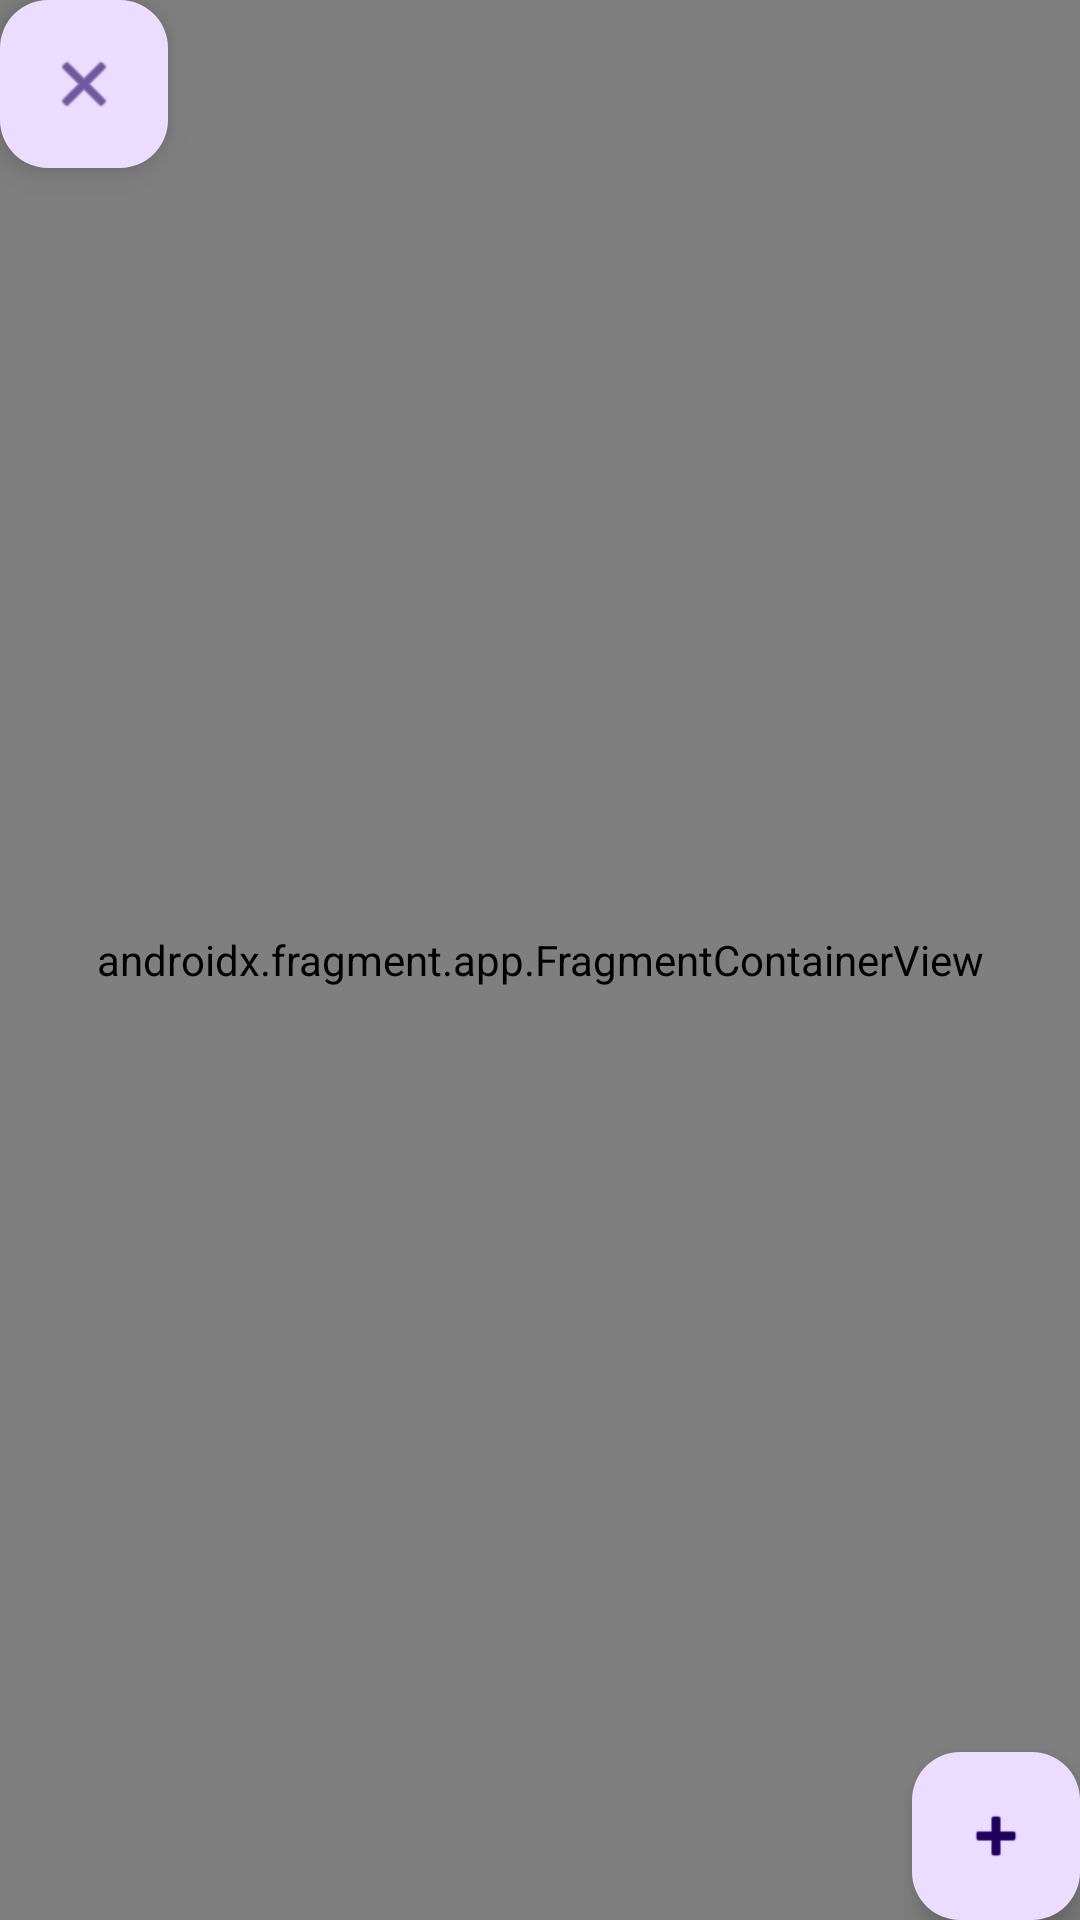

Locate icon controls on the screen. Image size 1080 × 1920, boxes as (x1, y1, x2, y2).
add: (912, 1752, 1080, 1920)
close clear cancel: (0, 0, 168, 168)
